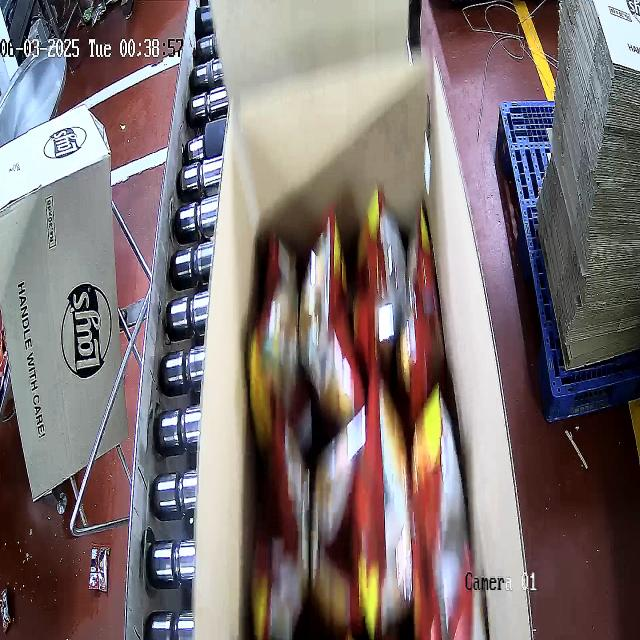MASALA: (246, 186, 475, 638)
